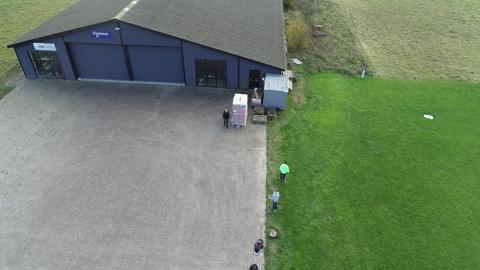RockwoolPallet: (232, 92, 250, 125)
